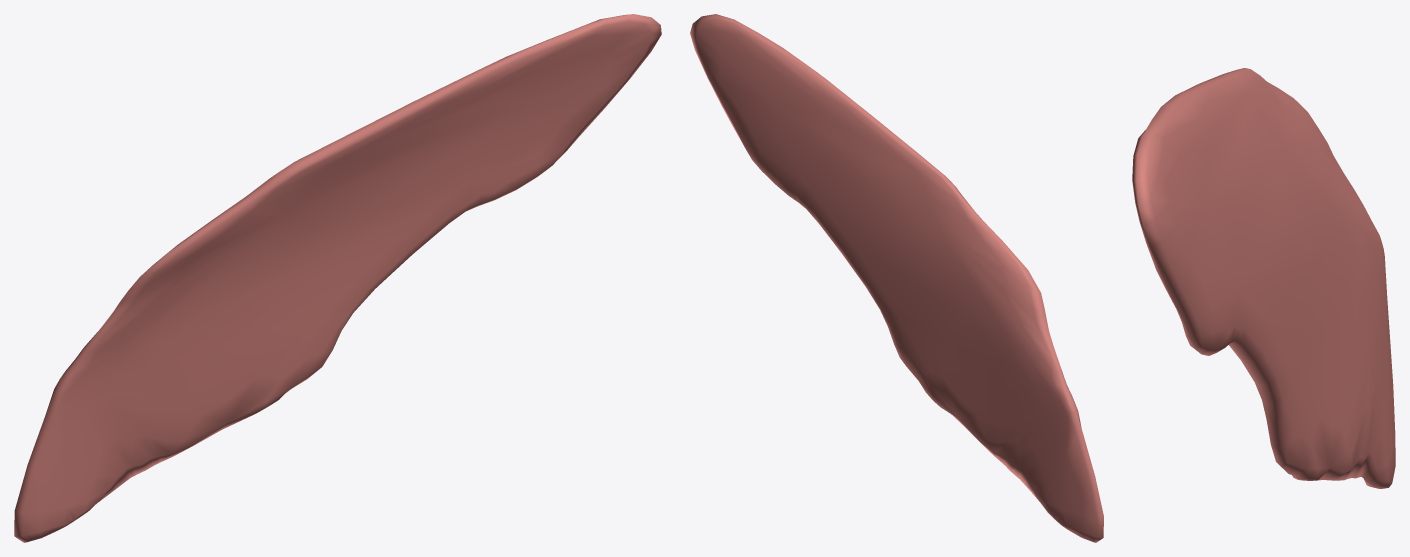
3 renders of one model, left to right at view 1: azimuth 30°, elevation 25°; view 2: azimuth 150°, elevation 25°; view 3: azimuth 270°, elevation 25°, orthographic. The views are drawn at different scales.
Visible parts, largest first — view 1: ZA_7e8f3180e4a7183f; view 2: ZA_7e8f3180e4a7183f; view 3: ZA_7e8f3180e4a7183f.
Part boxes in pixels (left/top/right/bottom): ZA_7e8f3180e4a7183f: left=14, top=14, right=661, bottom=542; ZA_7e8f3180e4a7183f: left=690, top=14, right=1103, bottom=542; ZA_7e8f3180e4a7183f: left=1132, top=68, right=1395, bottom=488.
Size of the model in its own units: 0.0222 by 0.0168 by 0.00534.
